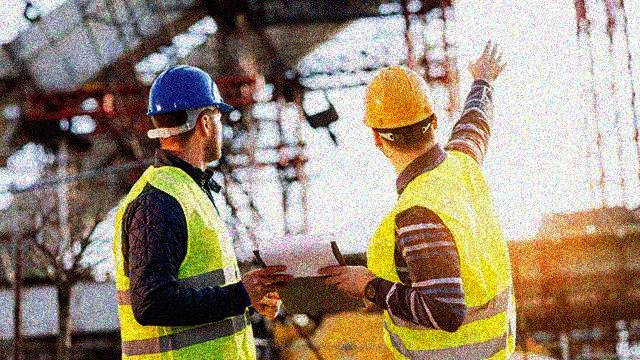helmet: (147, 63, 237, 165), (361, 66, 442, 163)
